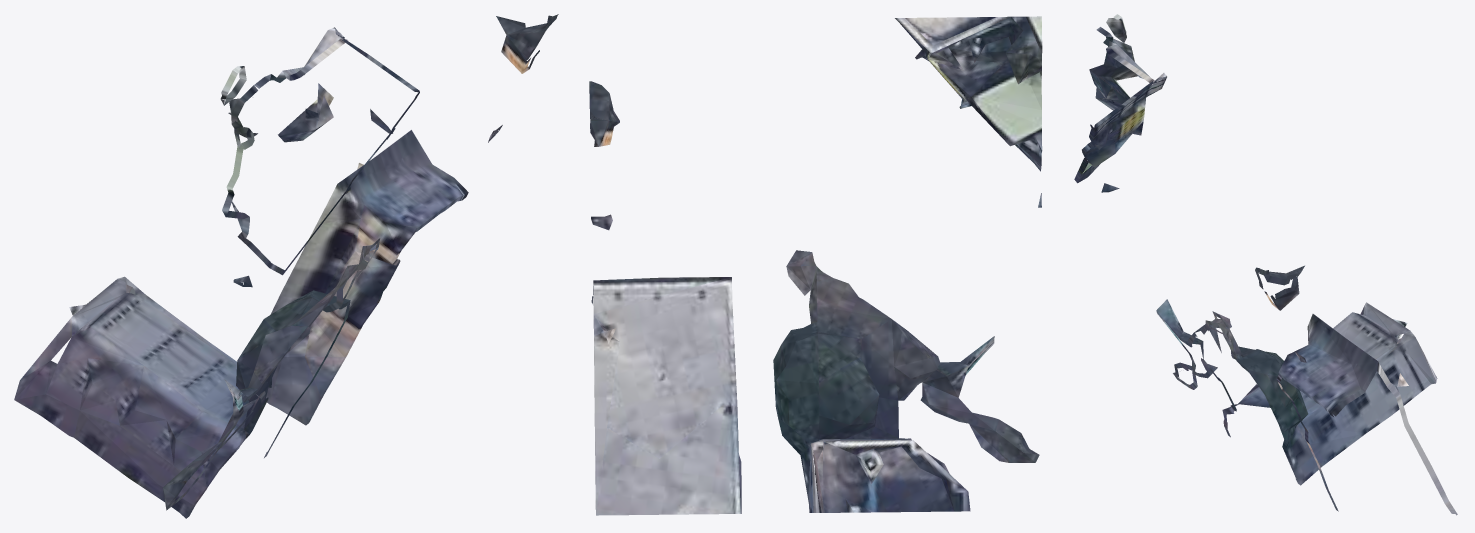
3 views of the same model, side by side, from view 1: azimuth 30°, elevation 25°; view 2: azimuth 150°, elevation 25°; view 3: azimuth 270°, elevation 25° (orthographic). The views are drawn at different scales.
Bounding box in the file's own units: 38.91 × 38.72 × 32.76.
Materials: 1 (1 with a texture image).
